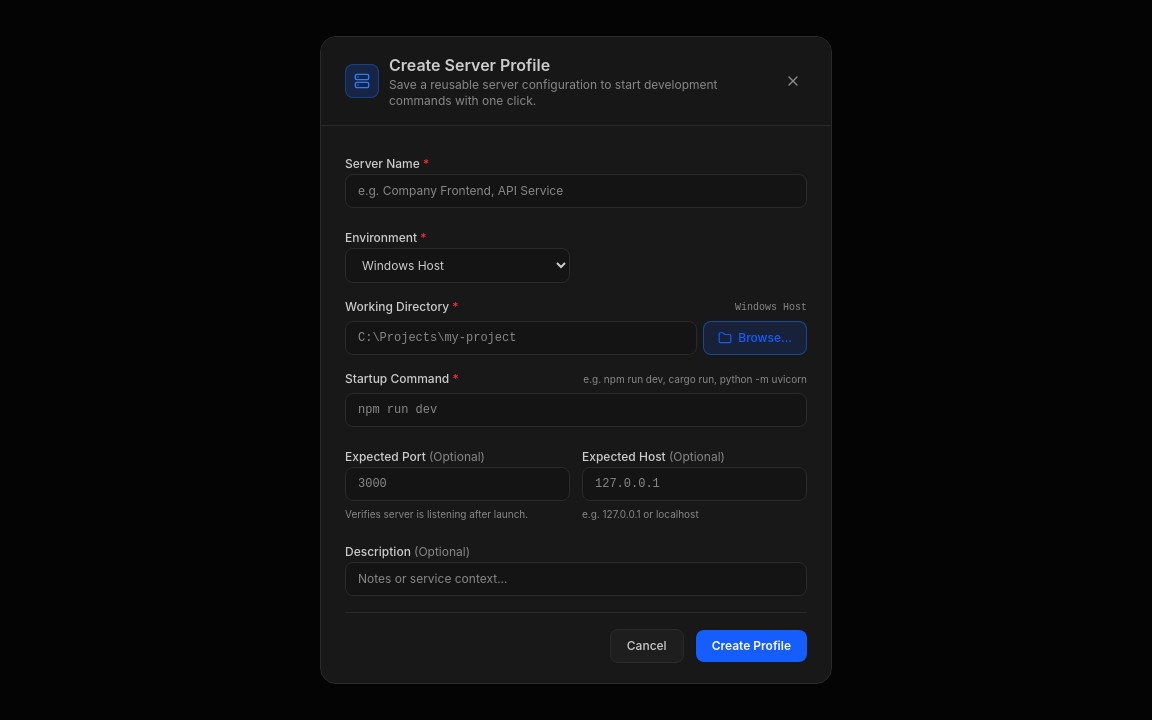
Test: ProfileFormModal Integration with WorkingDirectoryField › switches to WSL and enables Browse WSL... button for selected distribution
The image size is (1152, 720).
Switch environment to WSL
Select "WSL (Linux)" in the dropdown labelled "Environment *": (458, 266) [345,248,570,283]
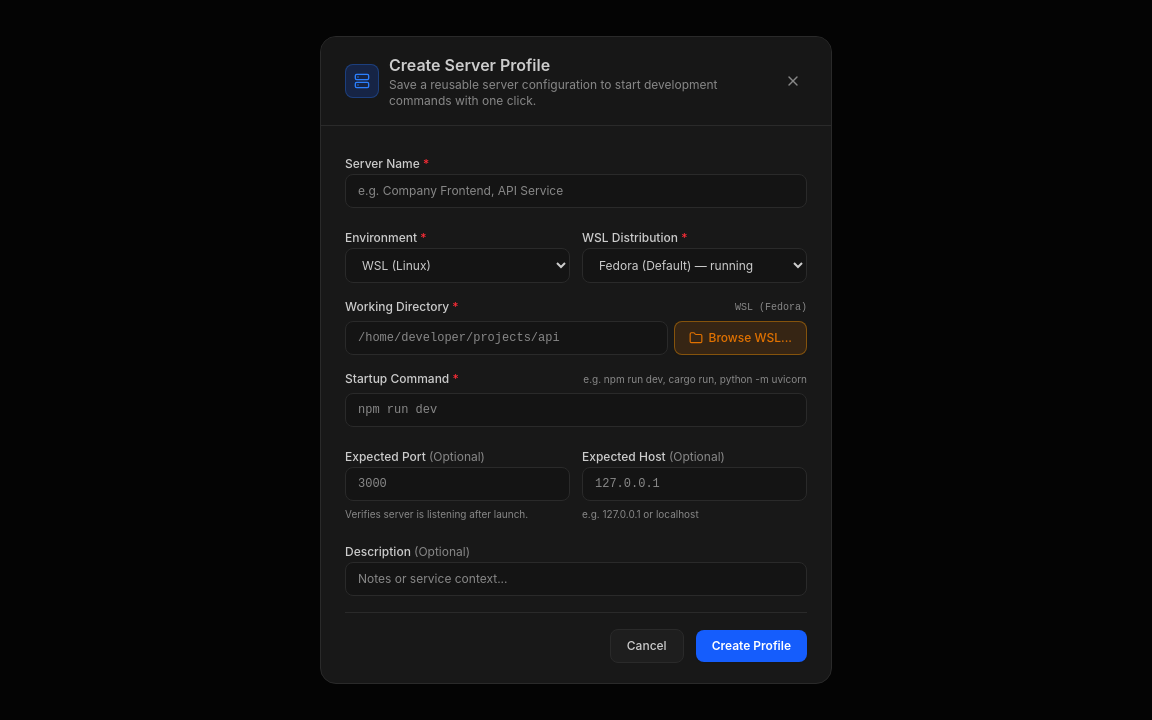
Check: the button "Browse WSL..." is shown, box [674,321,807,355]
Check: the text "WSL (Fedora)" is shown, box [735,300,807,314]
